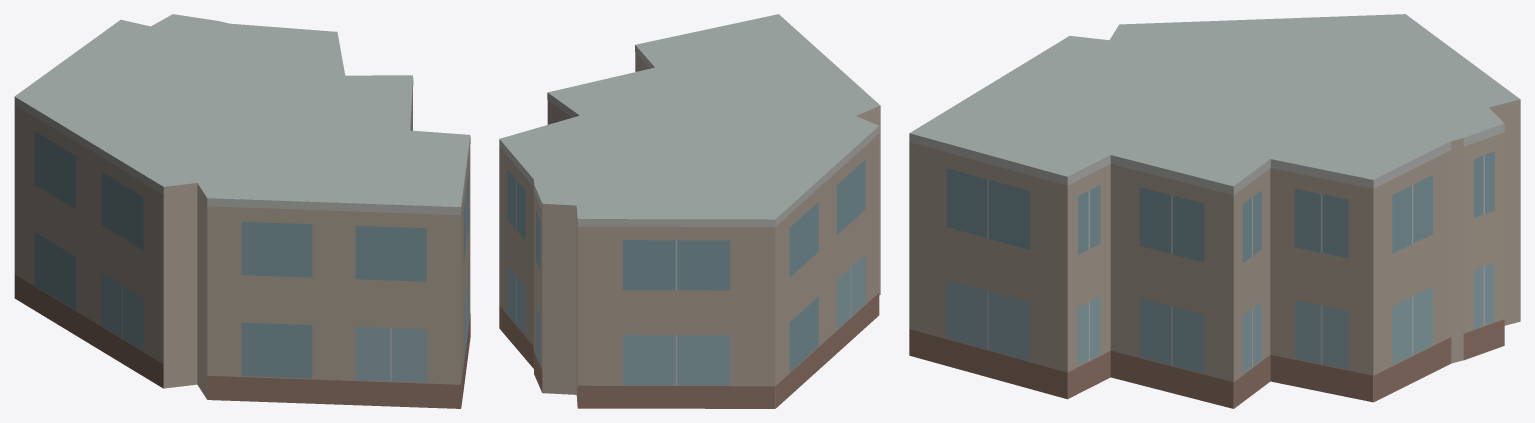
Rendered from survey-upis-32519130.glb.
3 renders of one model, left to right at view 1: azimuth 30°, elevation 25°; view 2: azimuth 150°, elevation 25°; view 3: azimuth 270°, elevation 25°, orthographic. The views are drawn at different scales.
Parts seen in each view (by area): view 1: survey-upis-32519130.tmp; view 2: survey-upis-32519130.tmp; view 3: survey-upis-32519130.tmp.
Part boxes in pixels (x1,y1,x2,y2): survey-upis-32519130.tmp: [14, 14, 470, 408]; survey-upis-32519130.tmp: [499, 14, 880, 408]; survey-upis-32519130.tmp: [909, 14, 1520, 408].
Bounding box in the file's own units: 10.16 × 6.1 × 15.21.
